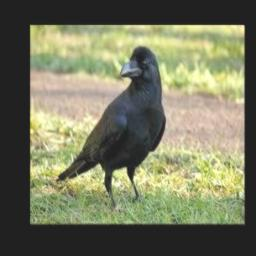Crow: (56, 45, 165, 208)
